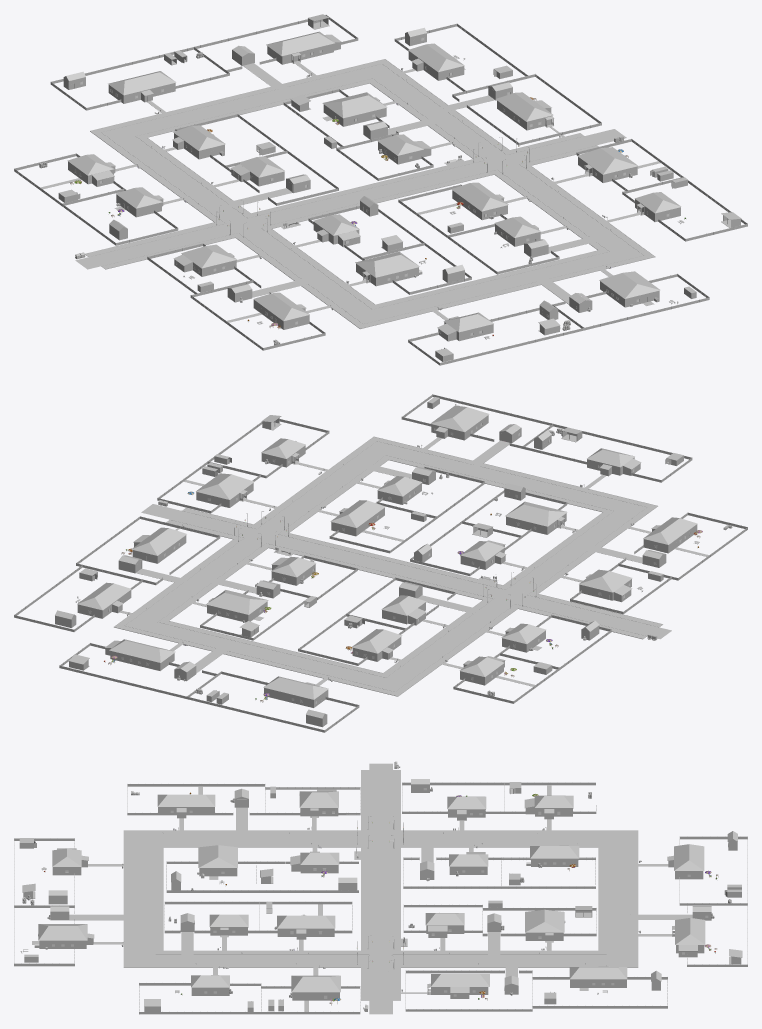
Rendered from PuebloChikenbey.fbx.
3 views of the same model, one above another, from view 1: azimuth 30°, elevation 25°; view 2: azimuth 150°, elevation 25°; view 3: azimuth 270°, elevation 25° (orthographic). The views are drawn at different scales.
Parts seen in each view (by area): view 1: Plane.001, Tropka.018, Tropka.012, Tropka.028, Tropka.006, Roof, Roof.008, Roof.020, Roof.012, Zabor.025, Roof.018, Roof.006 (+21 smaller); view 2: Plane.001, Tropka.012, Tropka.018, Tropka.006, Tropka.028, Roof, Zabor.025, Roof.008, Roof.012, Roof.020, Zabor.045, Roof.018 (+12 smaller); view 3: Plane.001, Tropka.012, Tropka.018, Tropka.028, Tropka.006, Zabor.025, Roof.020, Roof.008, Roof.012, Roof, Roof.006, Roof.004 (+34 smaller).
Boxes of the visible parts, x1,y1,x2,y2 form: Plane.001: (75,64,643,323); Tropka.018: (85,59,584,256); Tropka.012: (101,145,655,328); Tropka.028: (260,169,609,309); Tropka.006: (135,78,484,218); Roof: (599,271,660,298); Roof.008: (577,147,637,174); Roof.020: (322,92,387,118); Roof.012: (355,251,419,277); Zabor.025: (452,73,601,145); Roof.018: (495,92,553,121); Roof.006: (451,182,508,211); Plane.001: (125,441,671,691); Tropka.012: (182,436,662,627); Tropka.018: (114,519,646,696); Tropka.006: (158,543,493,677); Tropka.028: (278,455,613,589); Roof: (430,405,489,432); Zabor.025: (76,516,220,585); Roof.008: (196,473,254,499); Roof.012: (505,501,567,526); Roof.020: (206,590,268,614); Zabor.045: (187,671,359,732); Roof.018: (131,527,186,555); Plane.001: (132,763,630,1014); Tropka.012: (123,770,369,1000); Tropka.018: (392,770,638,1000); Tropka.028: (155,844,369,954); Tropka.006: (392,844,606,954); Zabor.025: (405,970,532,1011); Roof.020: (525,909,564,932); Roof.008: (291,975,340,992); Roof.012: (198,845,237,867); Roof: (38,924,87,940); Roof.006: (277,915,335,928); Roof.004: (675,918,705,944).
Bounding box in the file's own units: 25005 × 758 × 30952.
